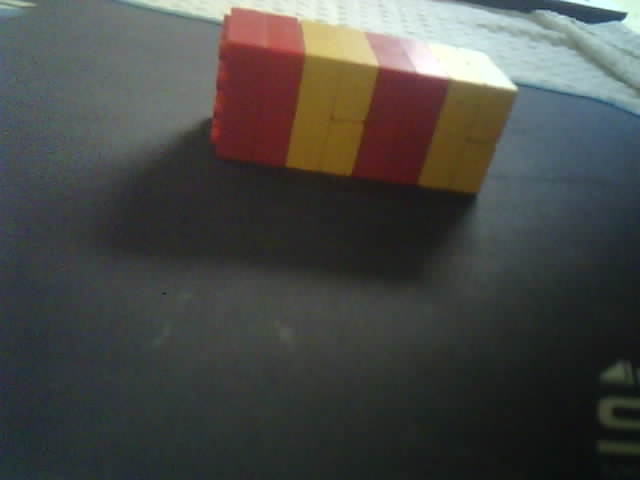lego: (206, 6, 519, 196)
